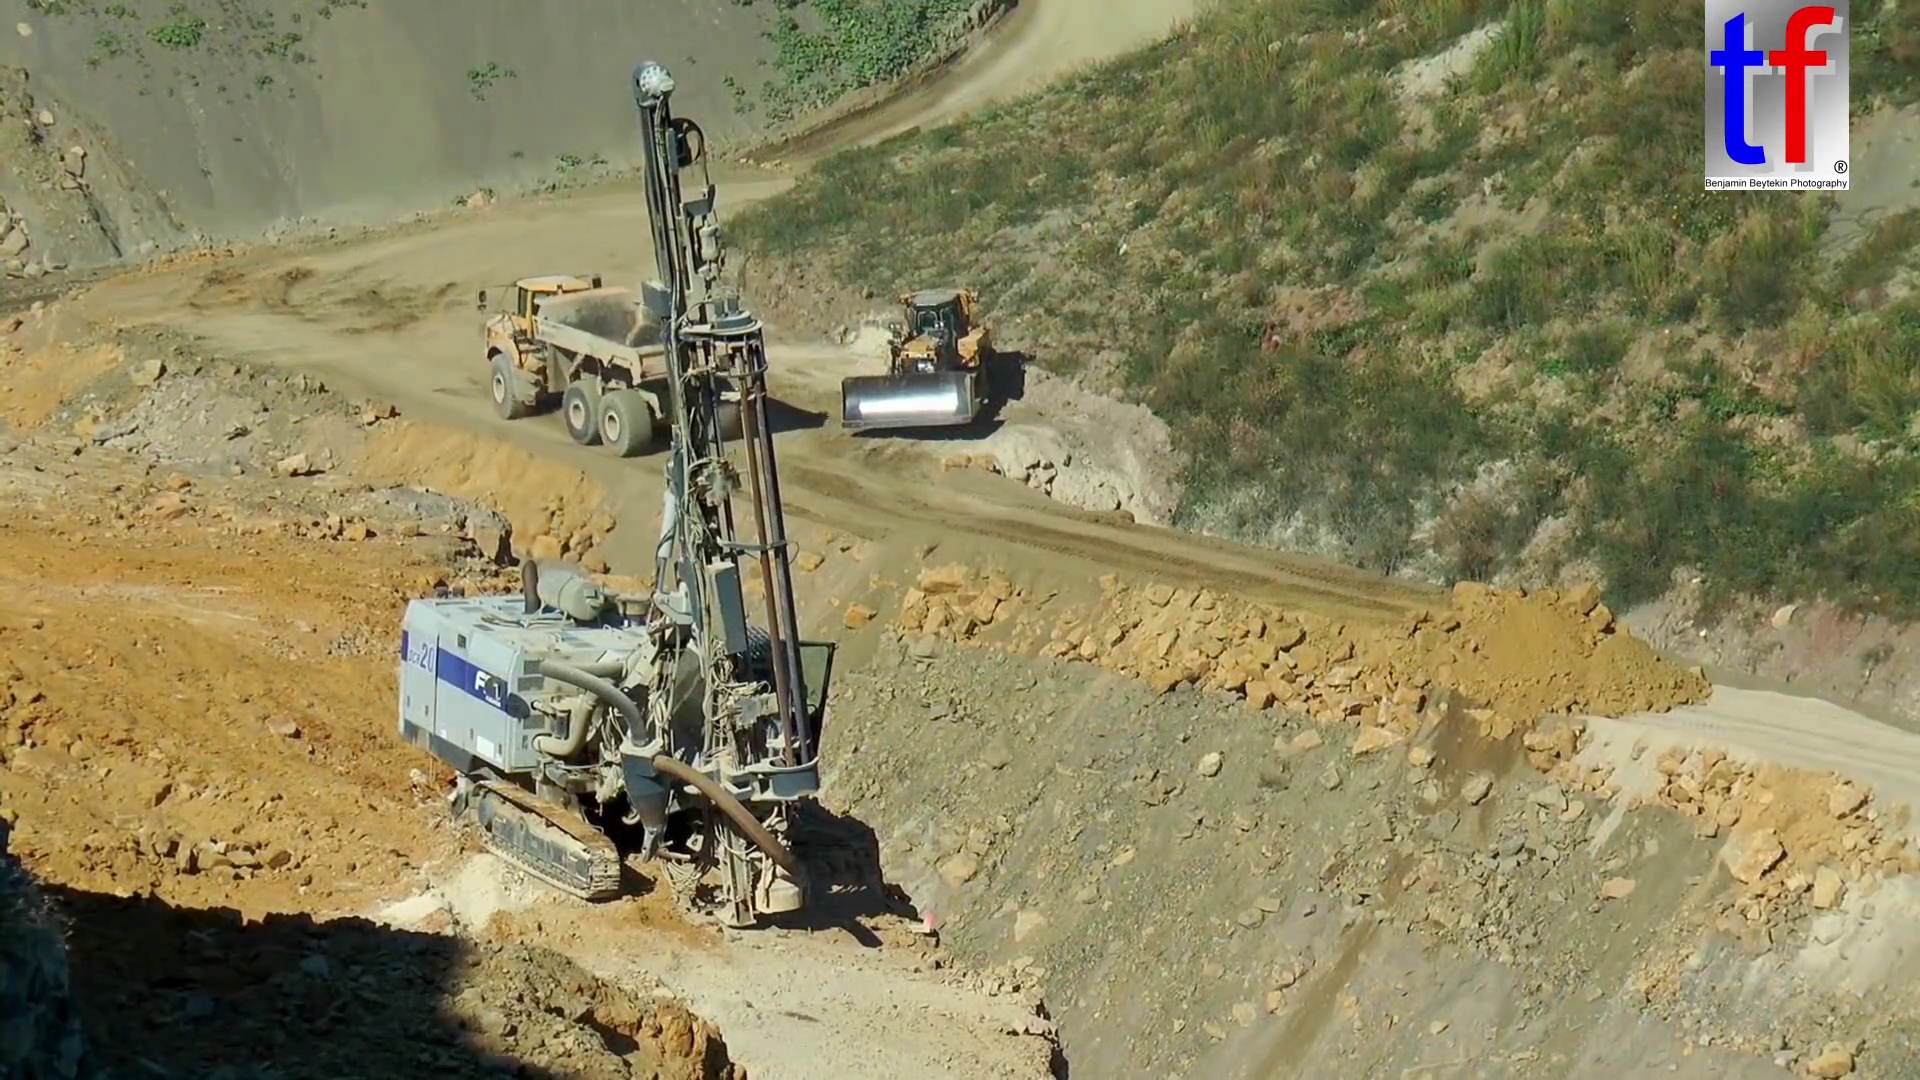bulldozer: (843, 286, 993, 431)
dumper: (479, 270, 683, 458)
